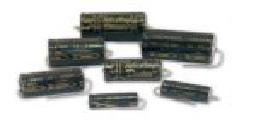Electrolytic-capacitor: (140, 26, 229, 69), (75, 9, 147, 45), (17, 65, 85, 99), (154, 80, 224, 107), (103, 58, 172, 84), (45, 39, 110, 66), (86, 91, 151, 114)
